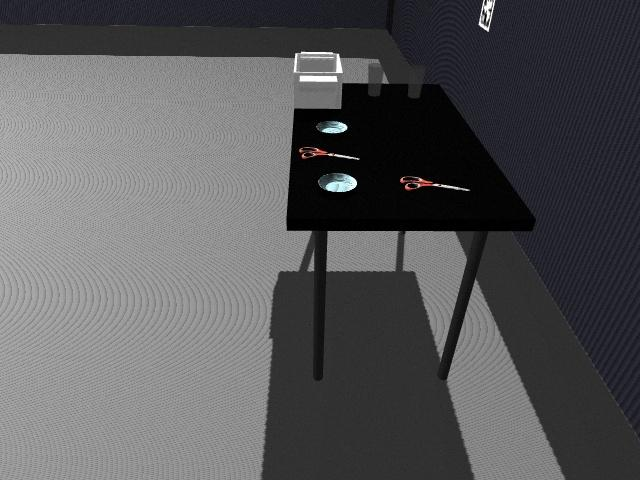cup: (367, 61, 383, 97), (407, 70, 424, 100)
plate: (317, 172, 359, 193), (316, 121, 348, 134)
scissors: (401, 174, 471, 192), (298, 146, 359, 162)
